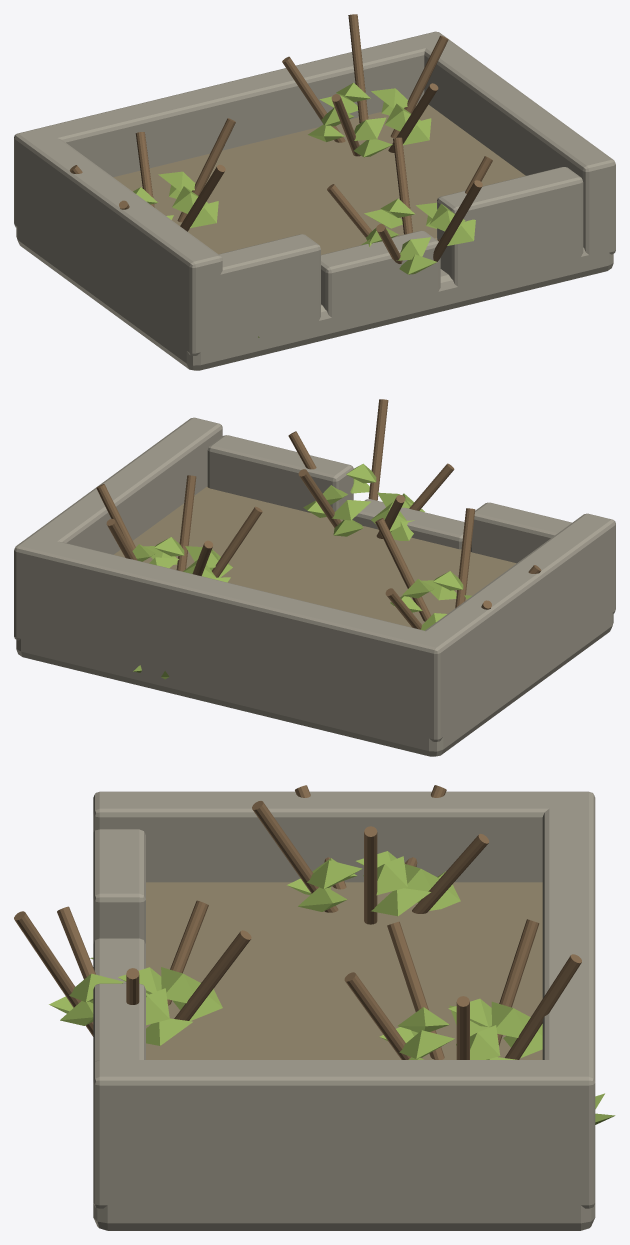
The model's file is Cracked_Planter_Sprouting.glb.
3 renders of one model, top to bottom at view 1: azimuth 30°, elevation 25°; view 2: azimuth 150°, elevation 25°; view 3: azimuth 270°, elevation 25°, orthographic. The views are drawn at different scales.
Parts seen in each view (by area): view 1: Support, Growth; view 2: Support, Growth; view 3: Support, Growth.
Part boxes in pixels (x1,y1,x2,y2): Support: (14,31,615,370); Growth: (69,14,492,337); Support: (14,417,615,756); Growth: (96,399,541,679); Support: (93,791,595,1230); Growth: (14,785,615,1124).
Bounding box in the file's own units: 2.6 × 0.9101 × 2.28.
